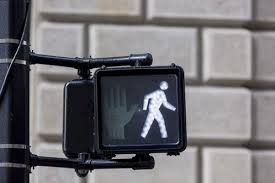pedestrian_walk: (95, 68, 184, 151)
